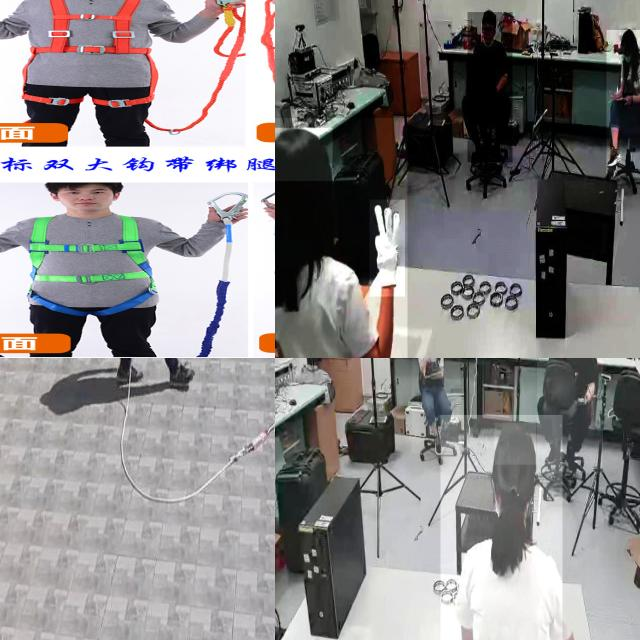Harness: (120, 385, 275, 504), (17, 210, 156, 321), (22, 0, 159, 61)
face_nomask: (481, 22, 495, 43)
glasses: (481, 21, 496, 37)
hand_glove: (369, 200, 405, 296)
hand_noglove: (622, 93, 634, 107), (612, 85, 624, 98)
head_nohelmet: (275, 128, 333, 182), (494, 423, 536, 465), (621, 28, 637, 43), (482, 9, 496, 21)
person: (275, 118, 408, 358), (440, 415, 563, 640), (536, 358, 603, 473), (467, 12, 513, 163), (606, 29, 640, 178), (412, 358, 461, 453)
shoes: (606, 144, 622, 170)
